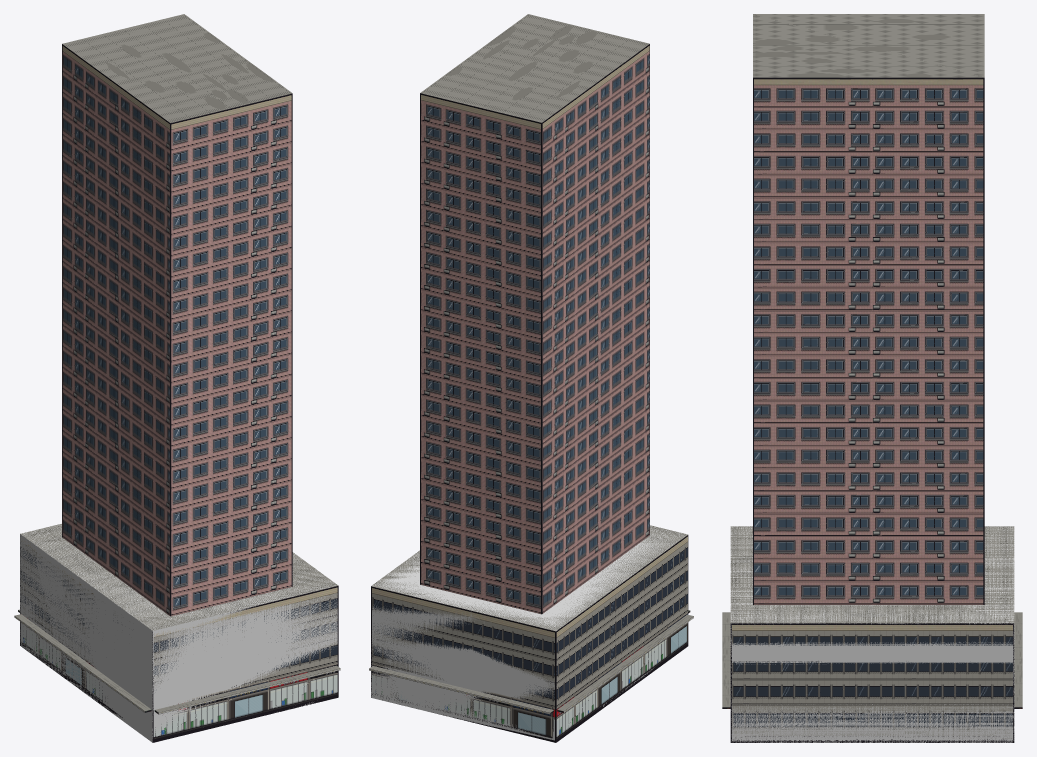
3 renders of one model, left to right at view 1: azimuth 30°, elevation 25°; view 2: azimuth 150°, elevation 25°; view 3: azimuth 270°, elevation 25°, orthographic. The views are drawn at different scales.
Visible parts, largest first — view 1: 19D-P02, COL_19D-P02_0; view 2: 19D-P02, COL_19D-P02_0; view 3: 19D-P02, COL_19D-P02_0.
Boxes of the visible parts, x1=… form: 19D-P02: x1=14, y1=14, x2=340, y2=742; COL_19D-P02_0: x1=20, y1=523, x2=337, y2=742; 19D-P02: x1=369, y1=14, x2=693, y2=742; COL_19D-P02_0: x1=371, y1=525, x2=687, y2=740; 19D-P02: x1=722, y1=14, x2=1022, y2=742; COL_19D-P02_0: x1=730, y1=526, x2=1014, y2=742.
Size of the model in its own units: 28.8 by 86.5 by 36.4.
Materials: 1 (1 with a texture image).
